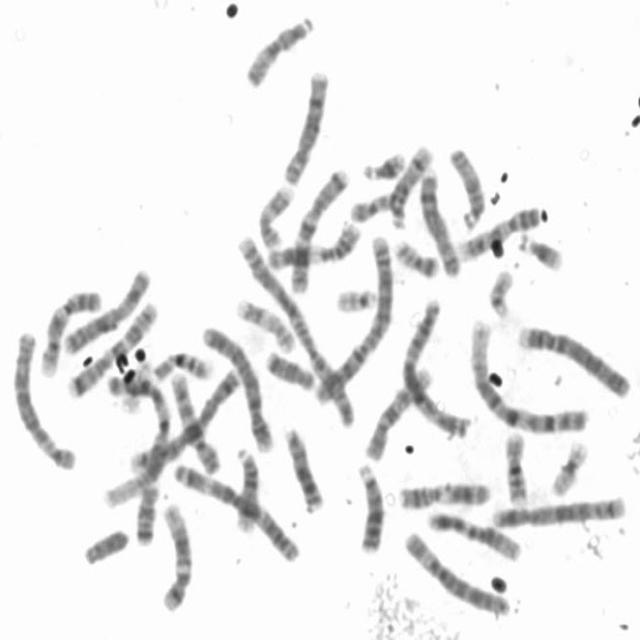A1: (463, 311, 593, 437), (99, 365, 176, 511)
A2: (233, 228, 363, 429), (308, 228, 398, 408)
A3: (167, 454, 302, 564), (397, 293, 472, 439)
B4: (198, 317, 278, 454), (514, 317, 634, 401)
B5: (128, 363, 244, 475), (486, 489, 630, 530)
C10: (358, 360, 435, 462), (166, 368, 222, 477)
C11: (261, 215, 363, 272), (394, 475, 494, 511)
C12: (423, 503, 524, 563), (157, 498, 195, 614)
C6: (398, 525, 512, 618), (5, 325, 77, 472)
C7: (63, 295, 160, 400), (286, 162, 353, 296)
C8: (278, 63, 332, 188), (416, 165, 462, 279)
C9: (36, 284, 104, 378), (454, 199, 546, 263)
D13: (279, 420, 326, 513), (351, 455, 387, 556)
D14: (386, 138, 435, 231), (231, 440, 260, 534)
D15: (241, 7, 318, 90), (445, 140, 488, 232)
E16: (500, 424, 533, 505), (149, 344, 215, 384)
E17: (231, 292, 297, 354), (253, 180, 296, 250)
E18: (261, 344, 317, 393), (130, 477, 162, 548)
F19: (545, 433, 592, 498), (121, 359, 161, 415)
F20: (389, 232, 442, 280), (347, 183, 395, 224)
G21: (514, 226, 566, 273), (358, 144, 409, 182)
G22: (484, 262, 516, 321), (332, 280, 380, 315)
X: (60, 262, 154, 356)
Y: (78, 522, 132, 568)
